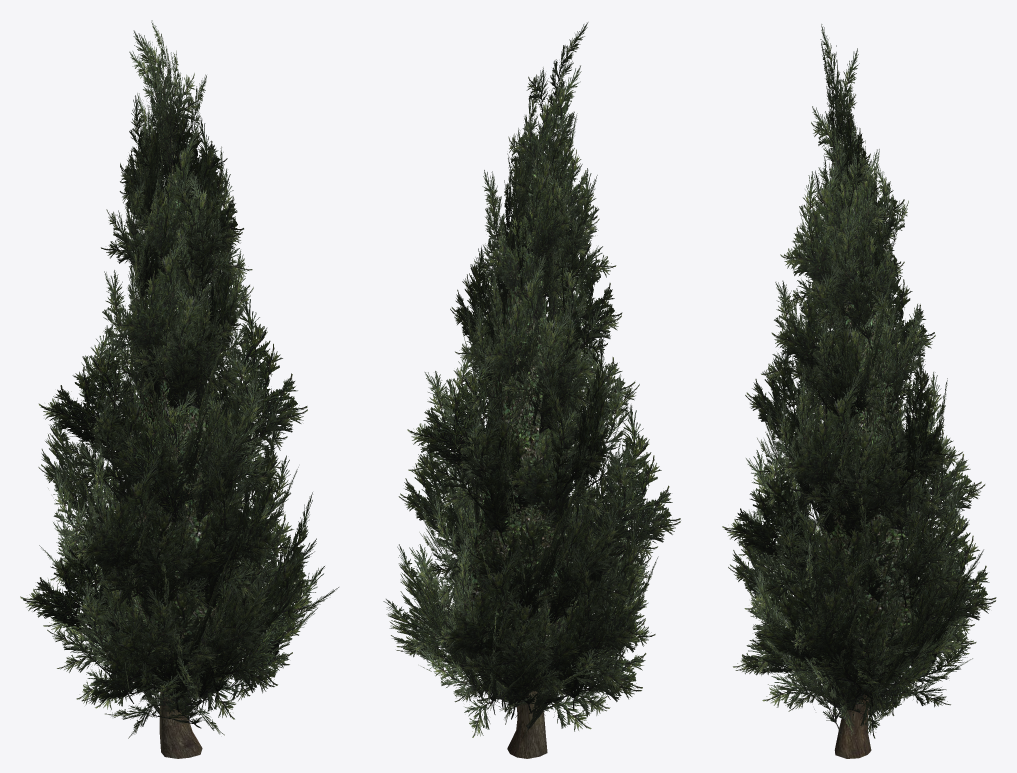
The model's file is tree-cypress.glb.
The picture shows the model from 3 angles, left to right: view 1: azimuth 30°, elevation 25°; view 2: azimuth 150°, elevation 25°; view 3: azimuth 270°, elevation 25°; orthographic projection. The views are drawn at different scales.
Bounding box in the file's own units: 6.7 × 18.5 × 6.72.
3 materials, 3 textured.
